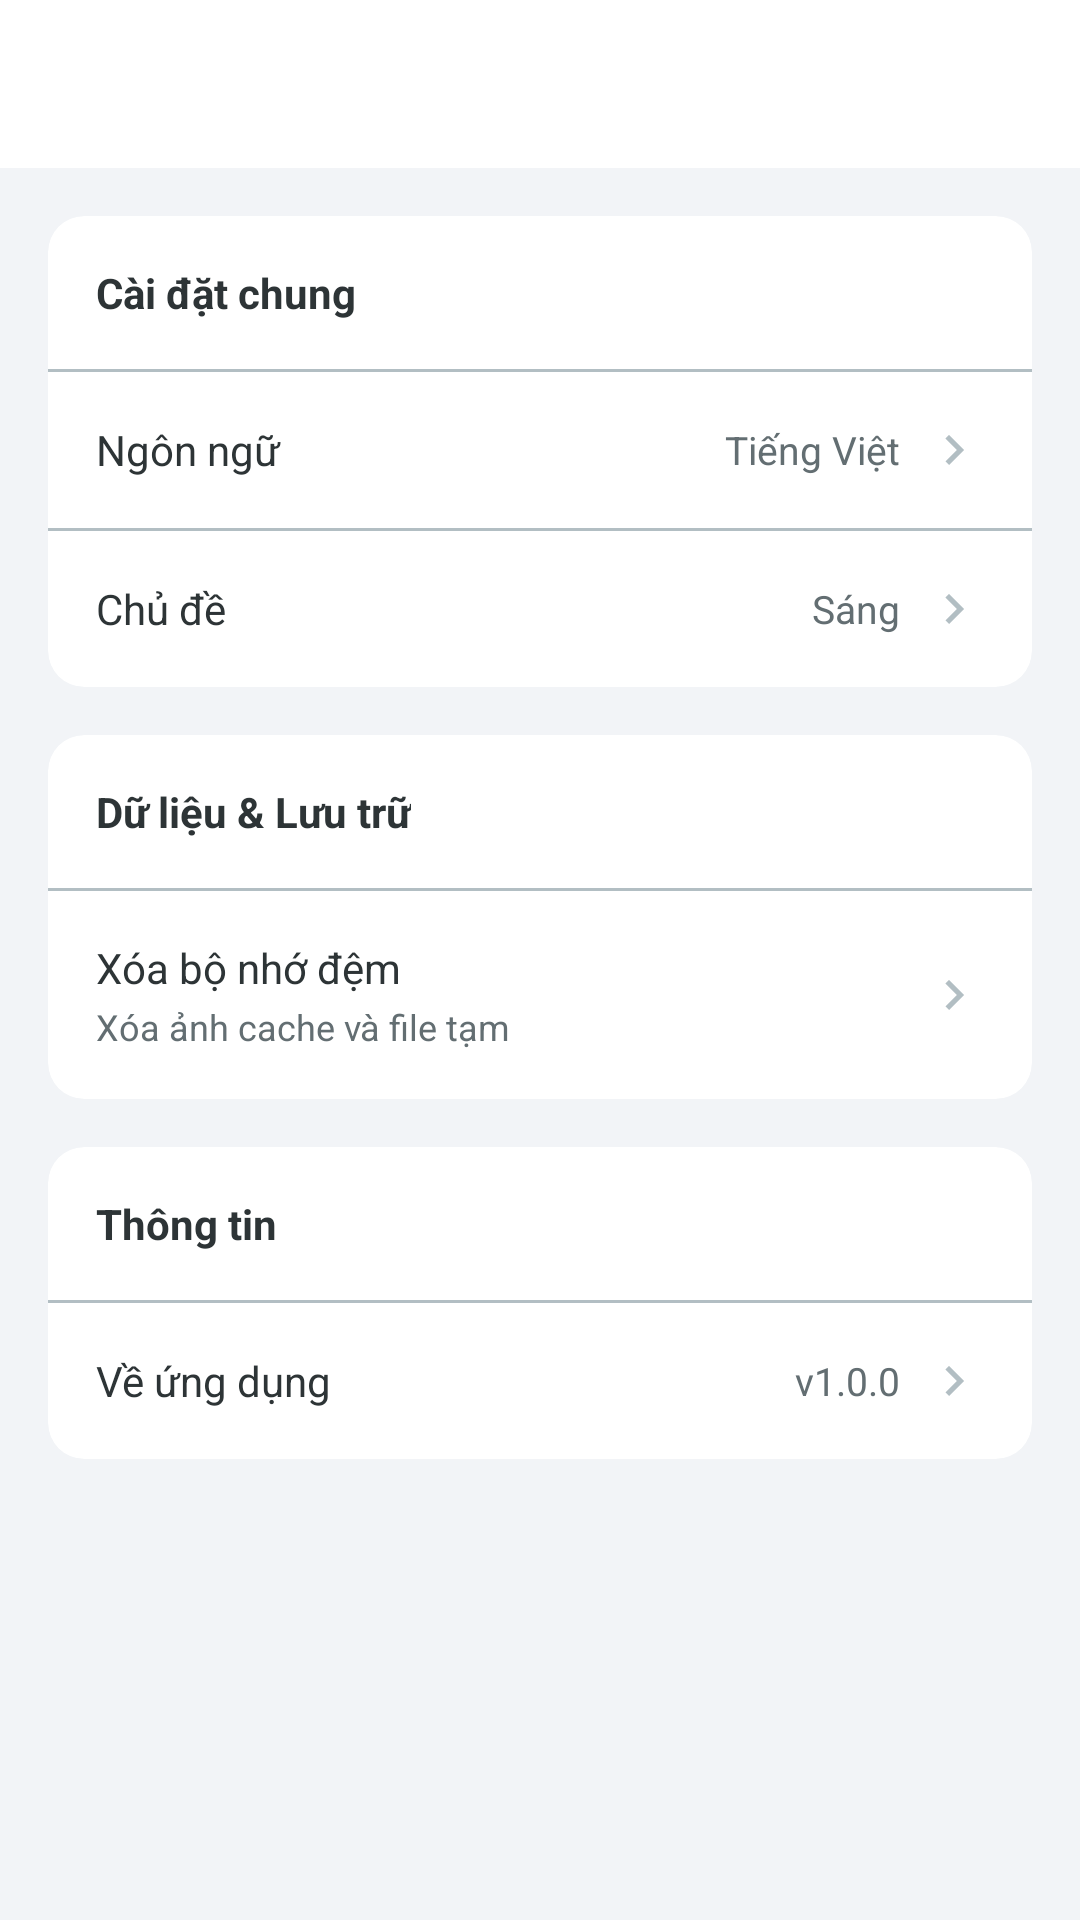

Icons on this 1080px×1920px Android screen, each with the point to tap as point (x, y):
chevron right: point (954, 450), point (954, 609), point (954, 995), point (954, 1381)
